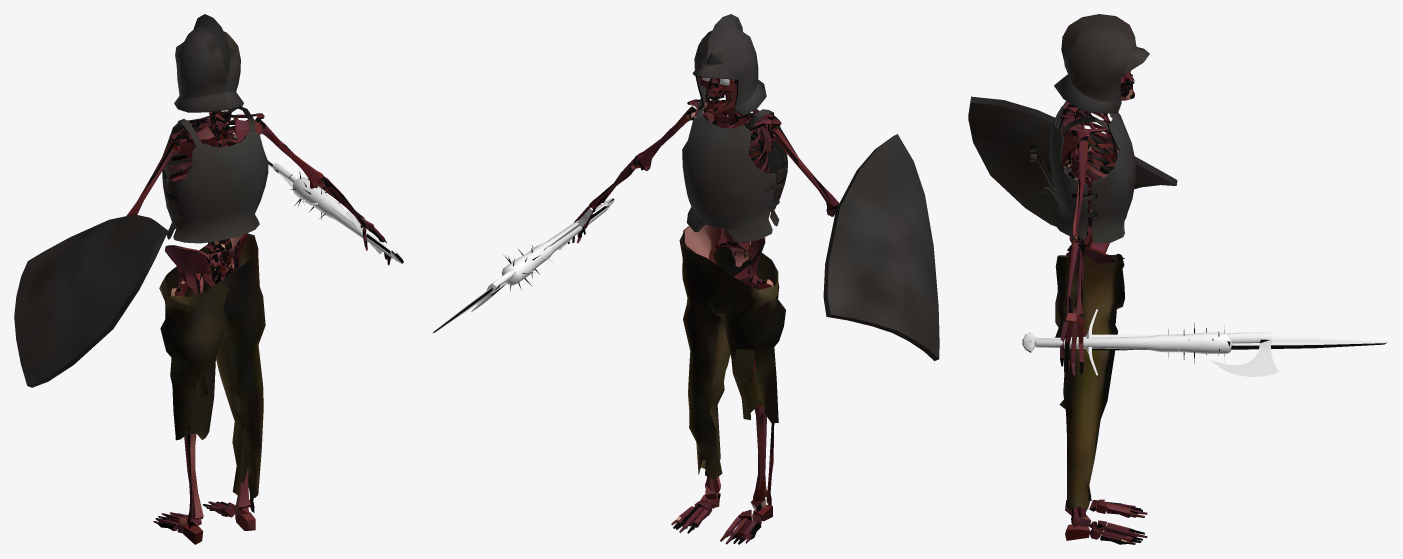
3 views of the same model, side by side, from view 1: azimuth 30°, elevation 25°; view 2: azimuth 150°, elevation 25°; view 3: azimuth 270°, elevation 25° (orthographic). The views are drawn at different scales.
Parts seen in each view (by area): view 1: mesh_0; view 2: mesh_0; view 3: mesh_0.
Boxes of the visible parts, x1=… form: mesh_0: x1=14, y1=14, x2=403, y2=544; mesh_0: x1=433, y1=14, x2=939, y2=544; mesh_0: x1=968, y1=14, x2=1388, y2=544.
Size of the model in its own units: 56.71 by 74.4 by 55.02.
Materials: 1 (1 with a texture image).
